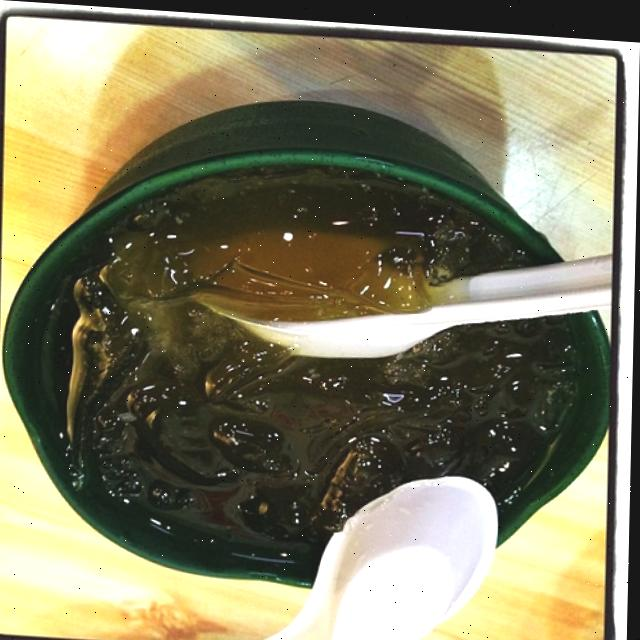蛋糕甜品: (25, 134, 602, 614)
